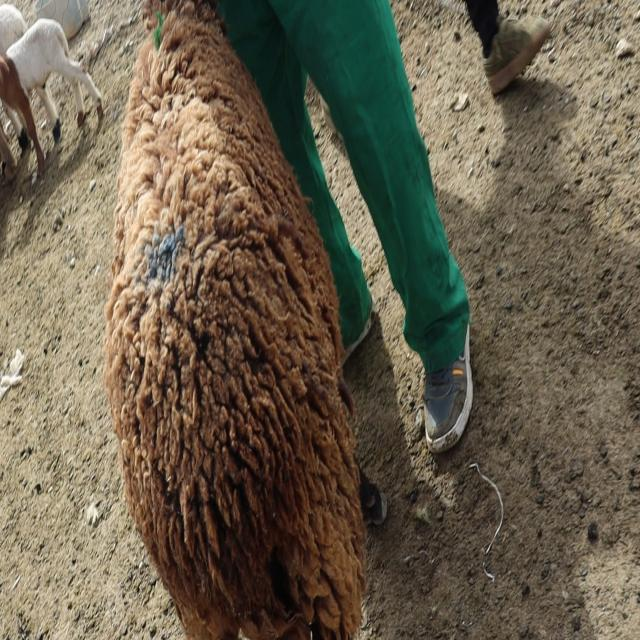Score_1: (104, 0, 365, 639)
